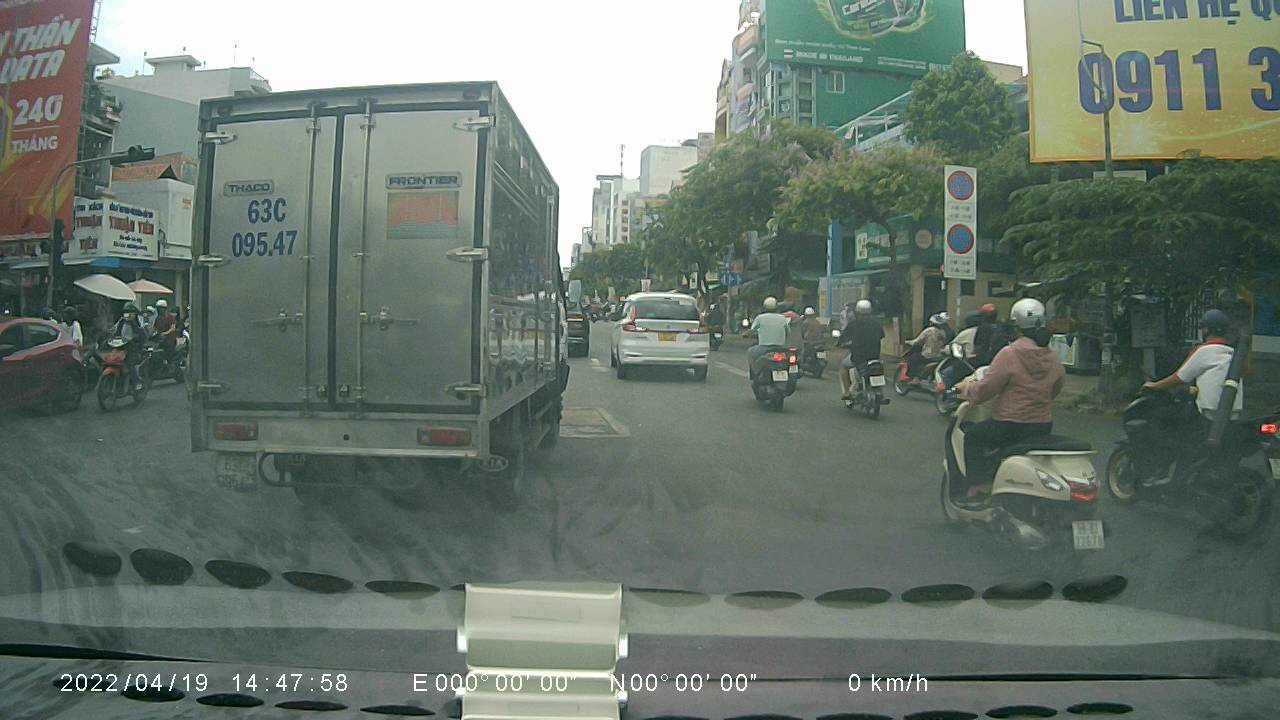Bien khac: (945, 165, 976, 203)
Cam do xe: (947, 221, 975, 255)
